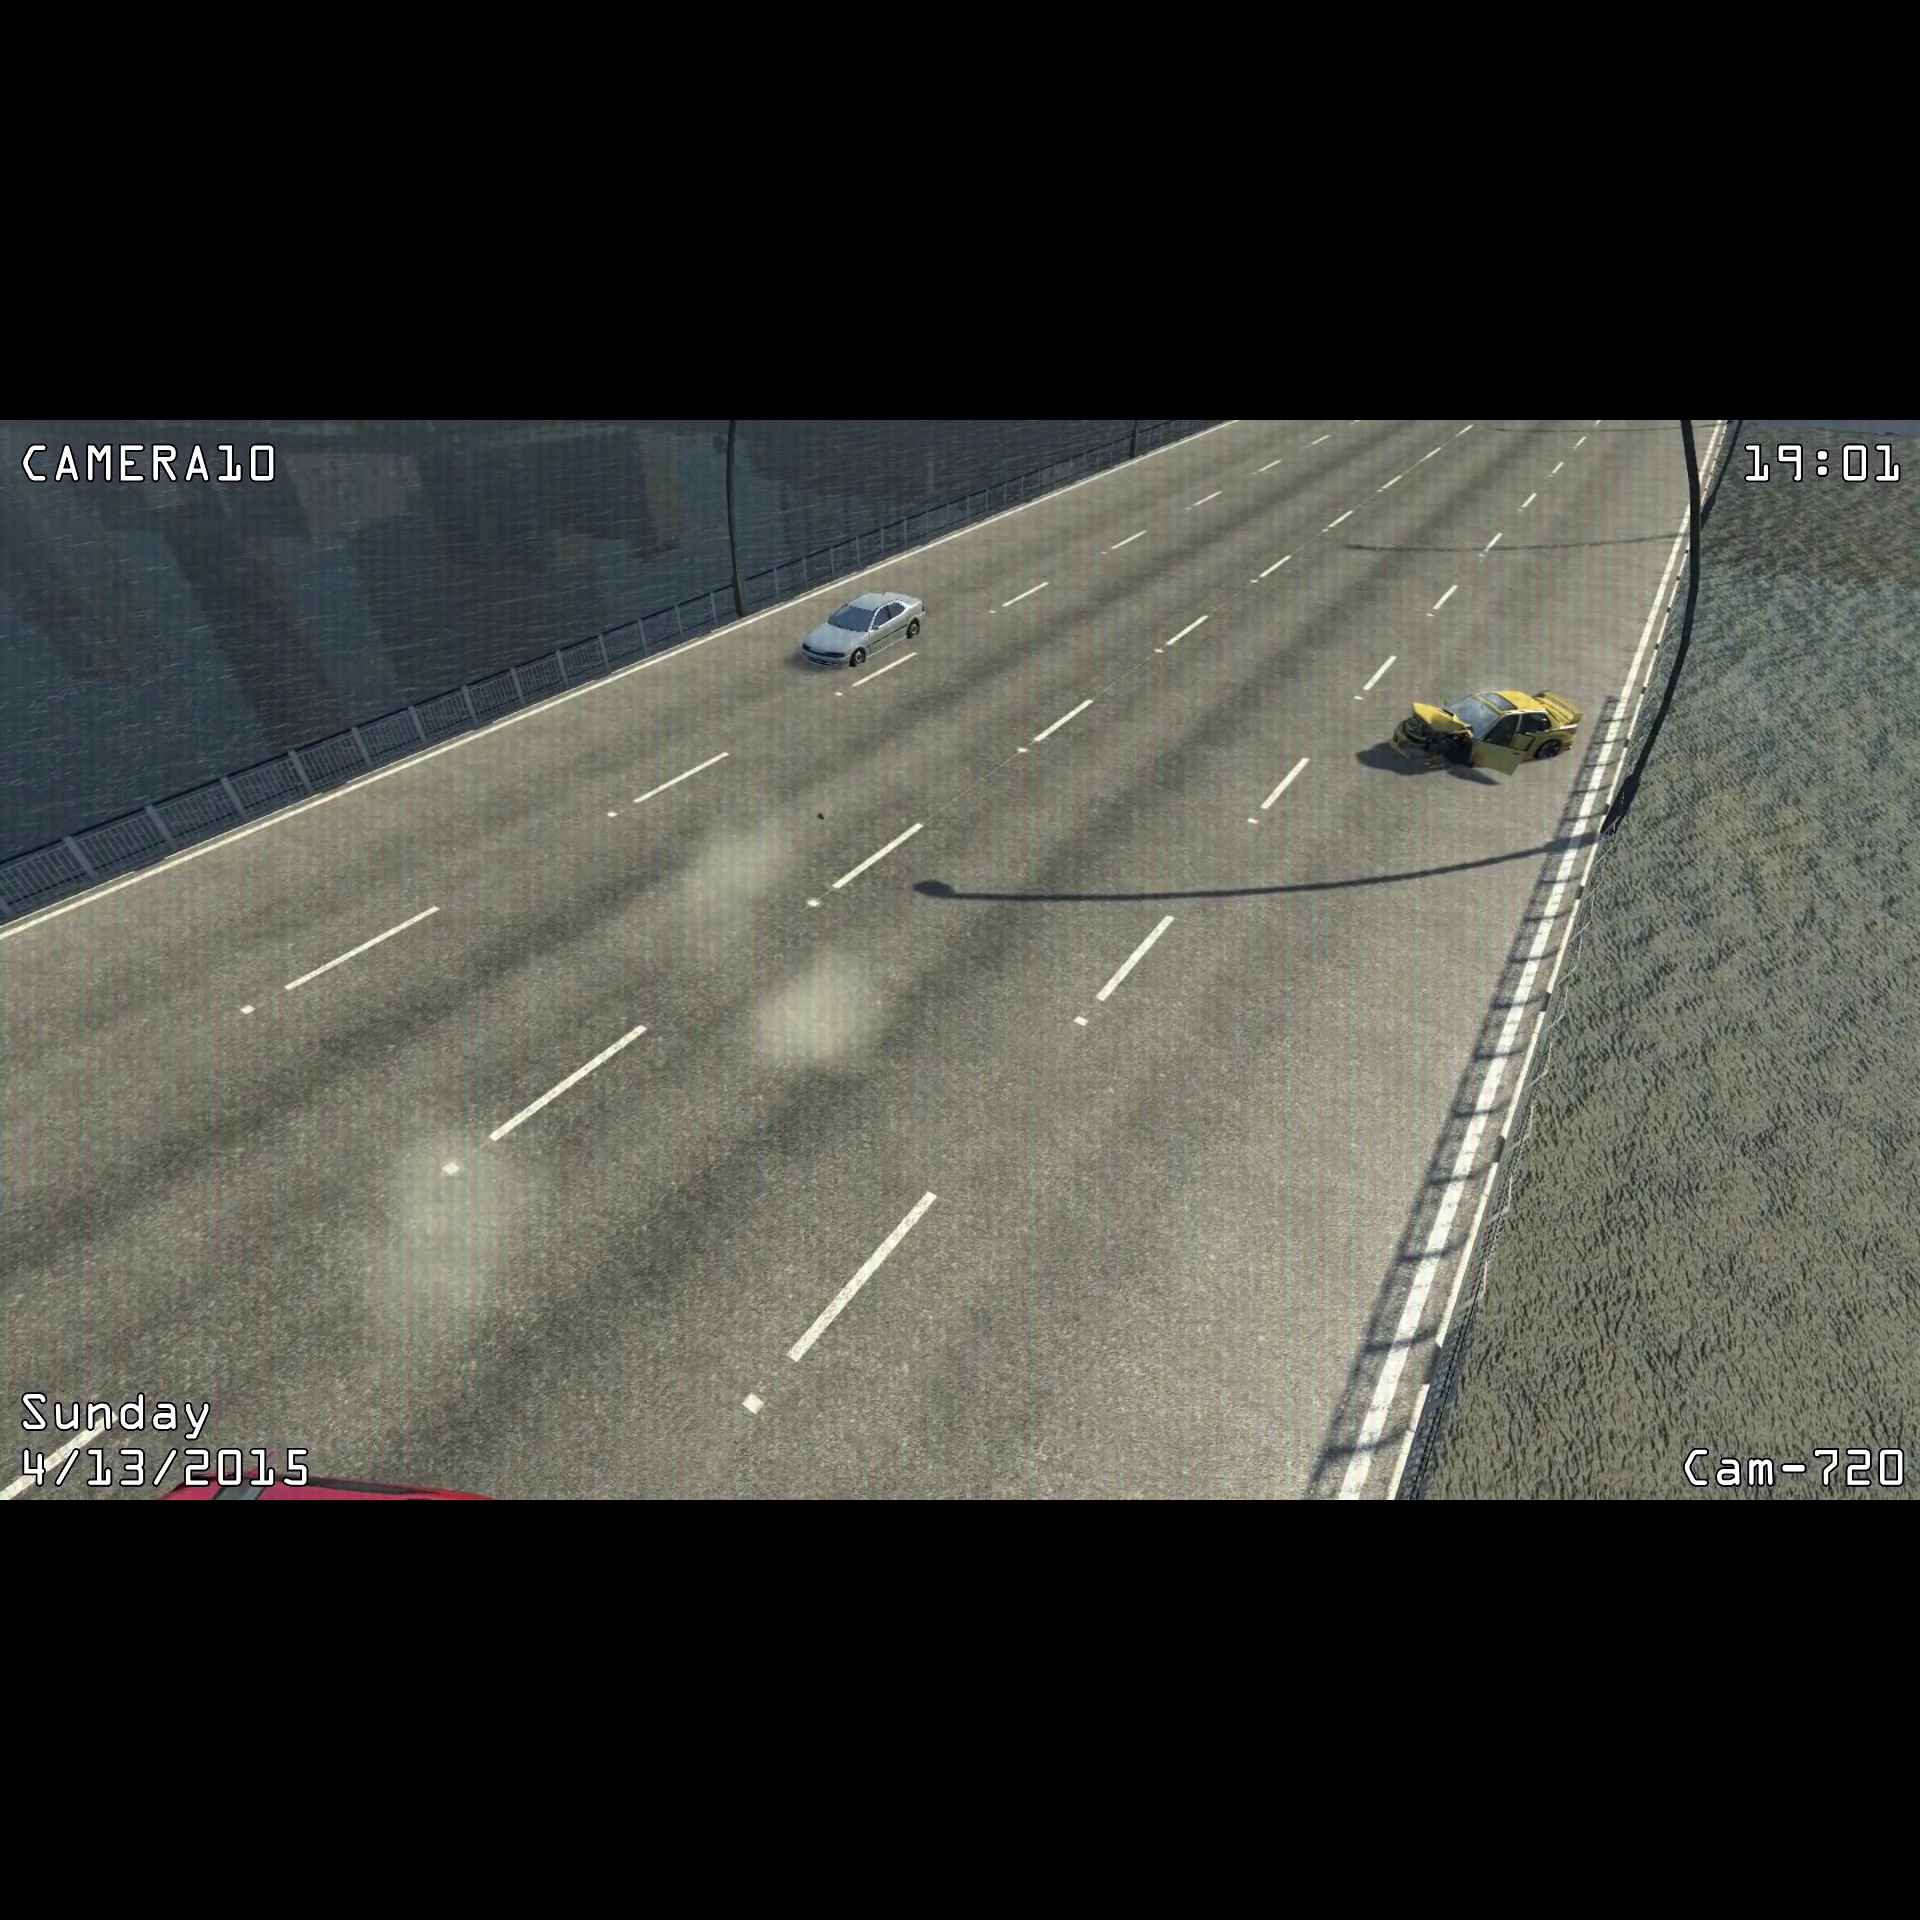vehicle: (1378, 677, 1589, 774), (795, 584, 937, 677)
